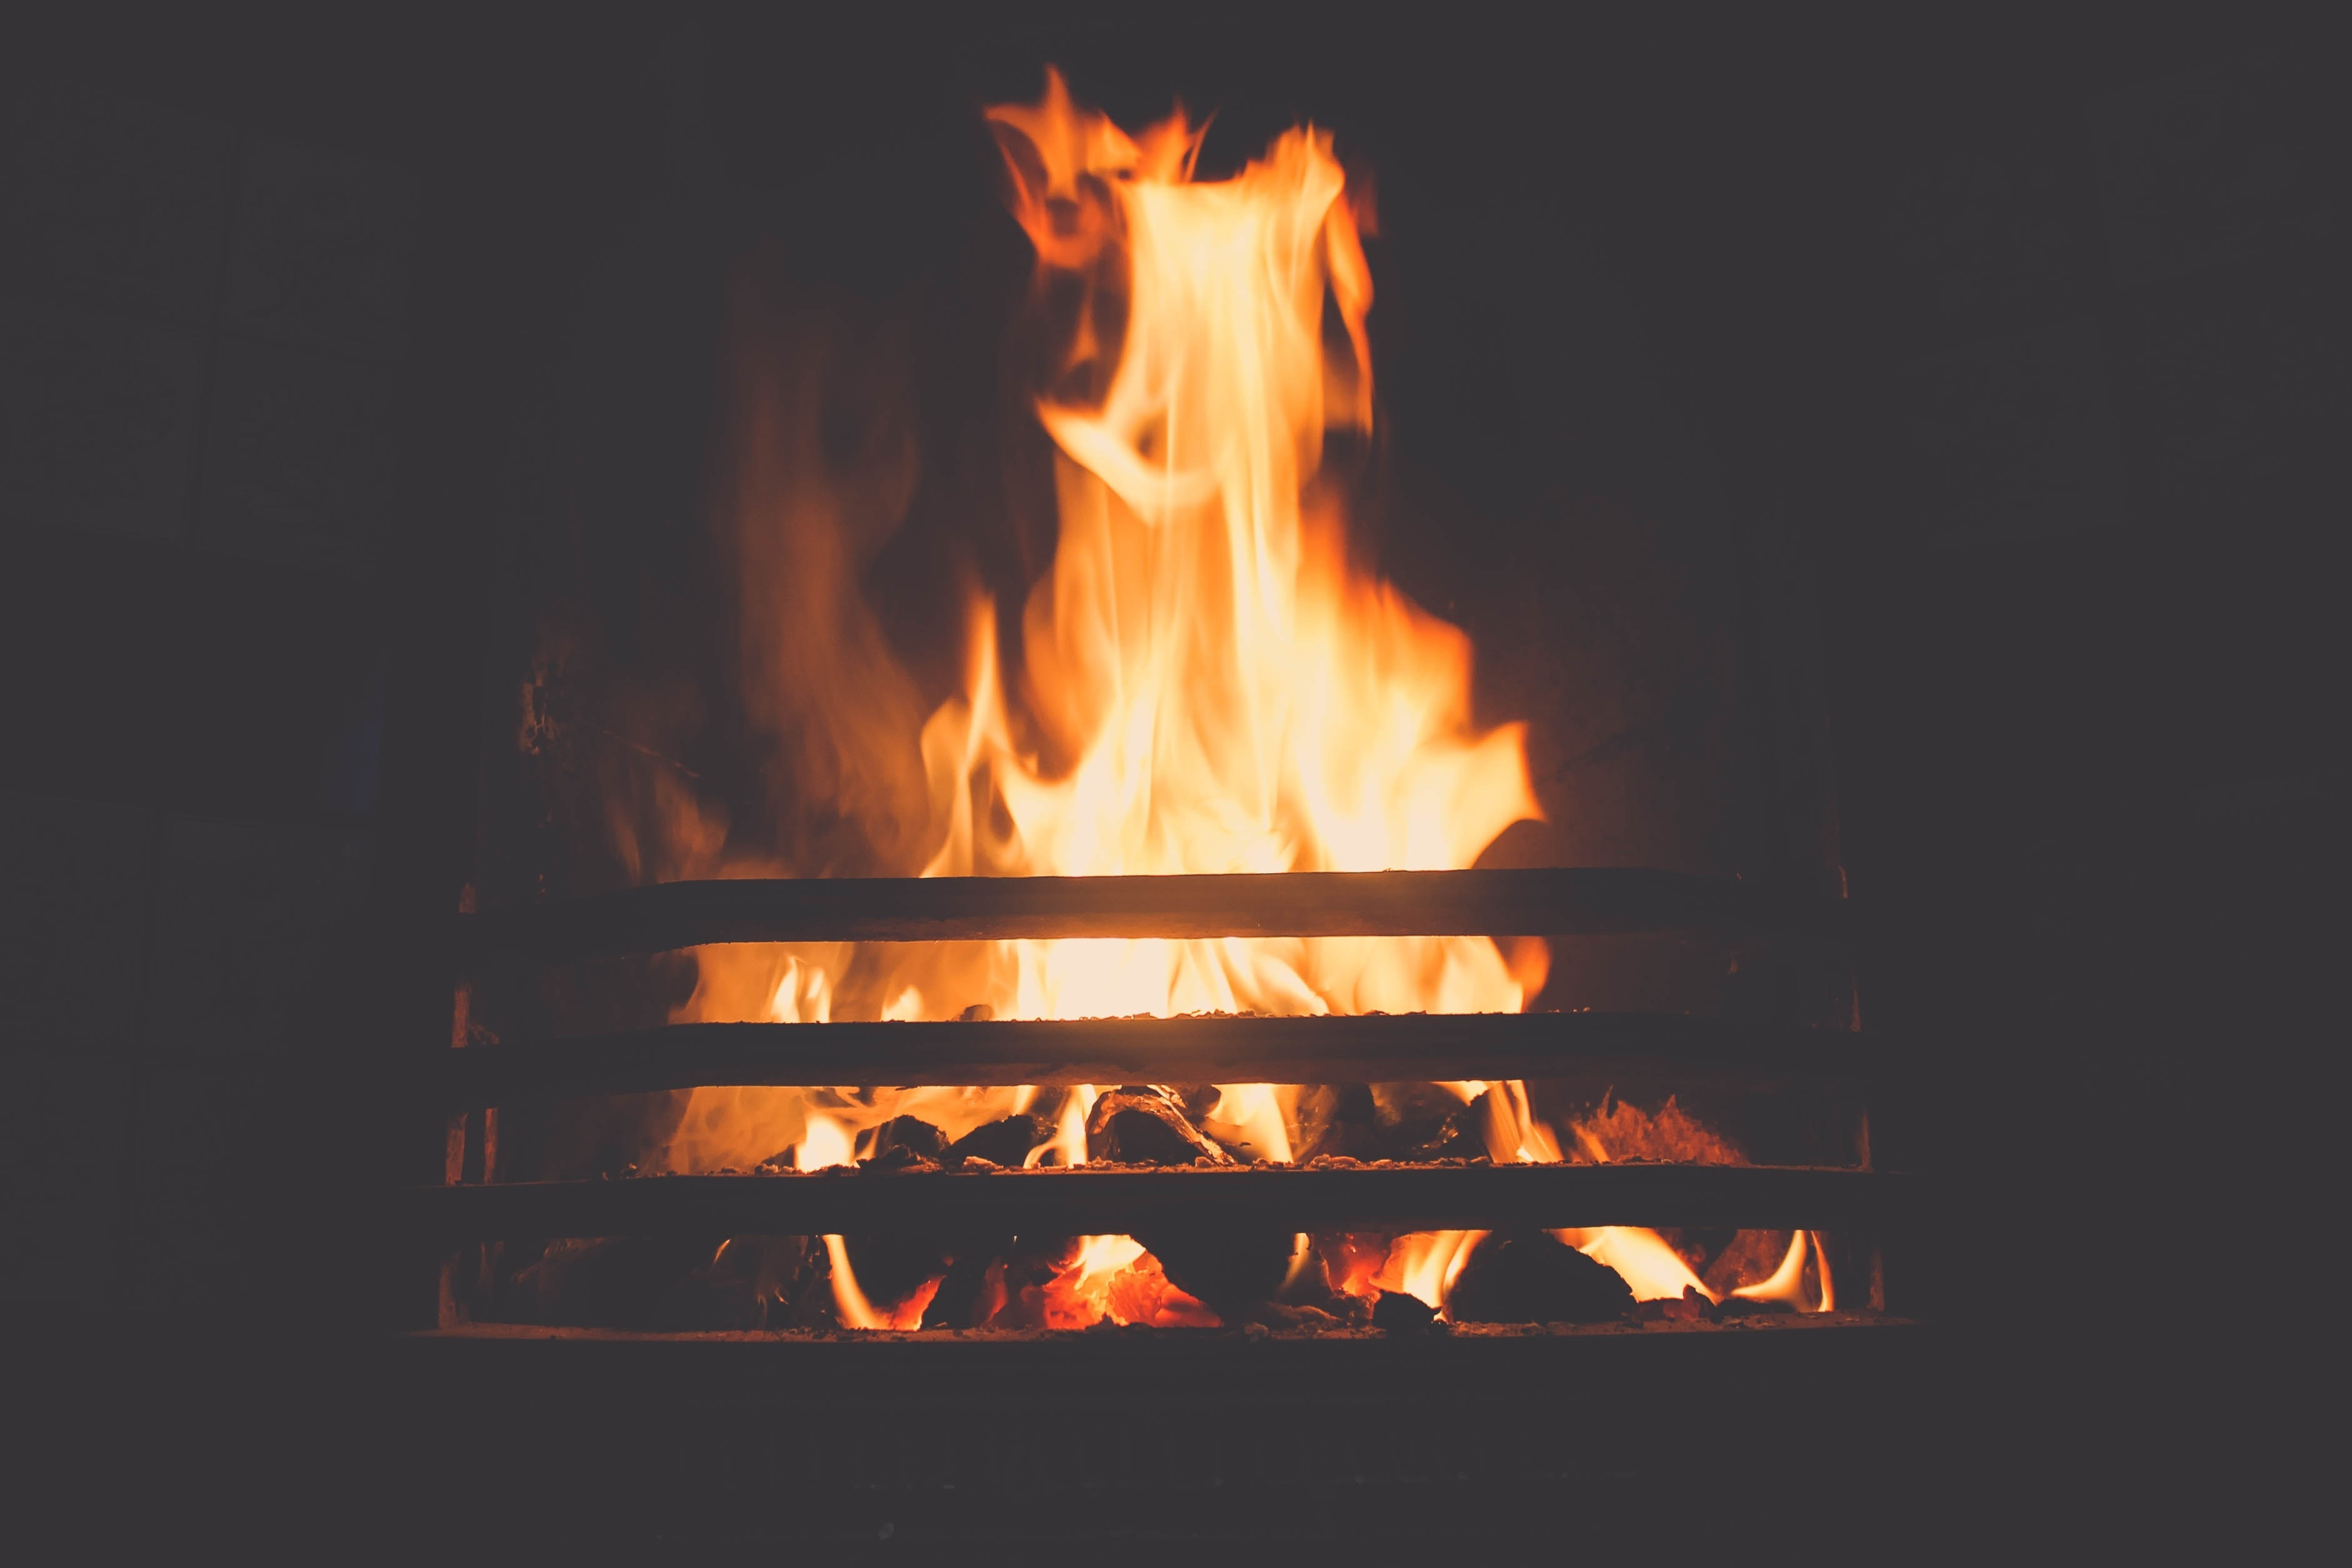fire: (691, 9, 1598, 1367)
